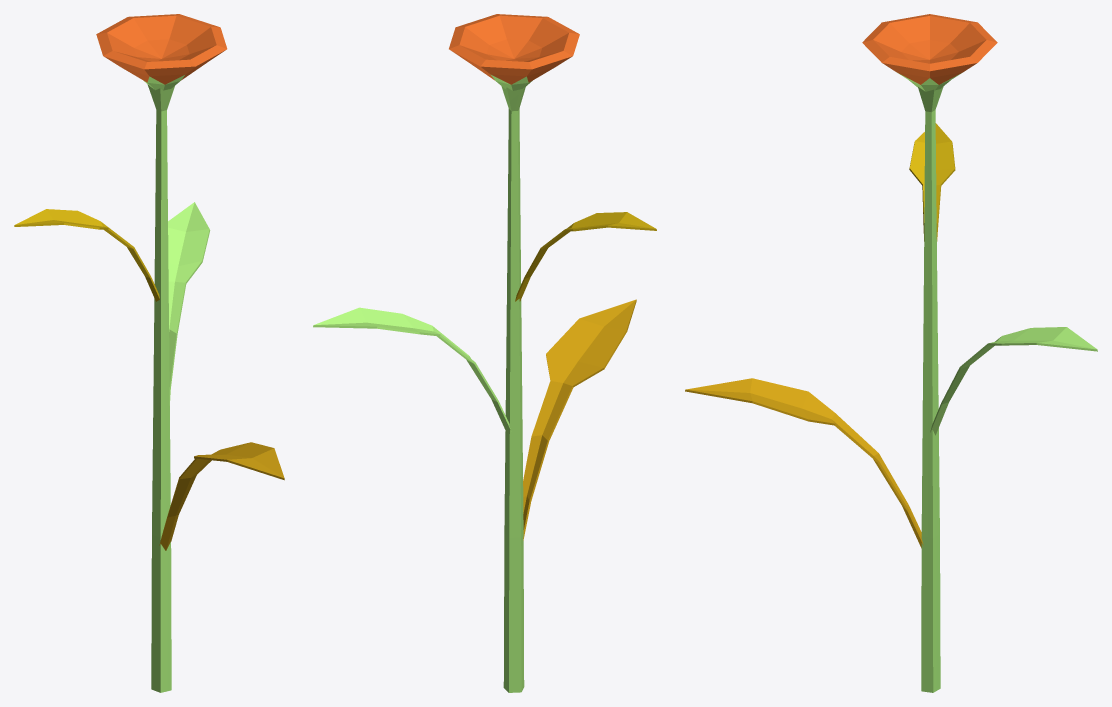
Rendered from Flower_1.fbx.
3 renders of one model, left to right at view 1: azimuth 30°, elevation 25°; view 2: azimuth 150°, elevation 25°; view 3: azimuth 270°, elevation 25°, orthographic.
Visible parts, largest first — view 1: Flower_1; view 2: Flower_1; view 3: Flower_1.
Boxes of the visible parts, x1,y1,x2,y2 form: Flower_1: (14, 14, 284, 692); Flower_1: (313, 14, 656, 692); Flower_1: (685, 14, 1097, 692).
Bounding box in the file's own units: 32.18 × 76.24 × 43.96.
